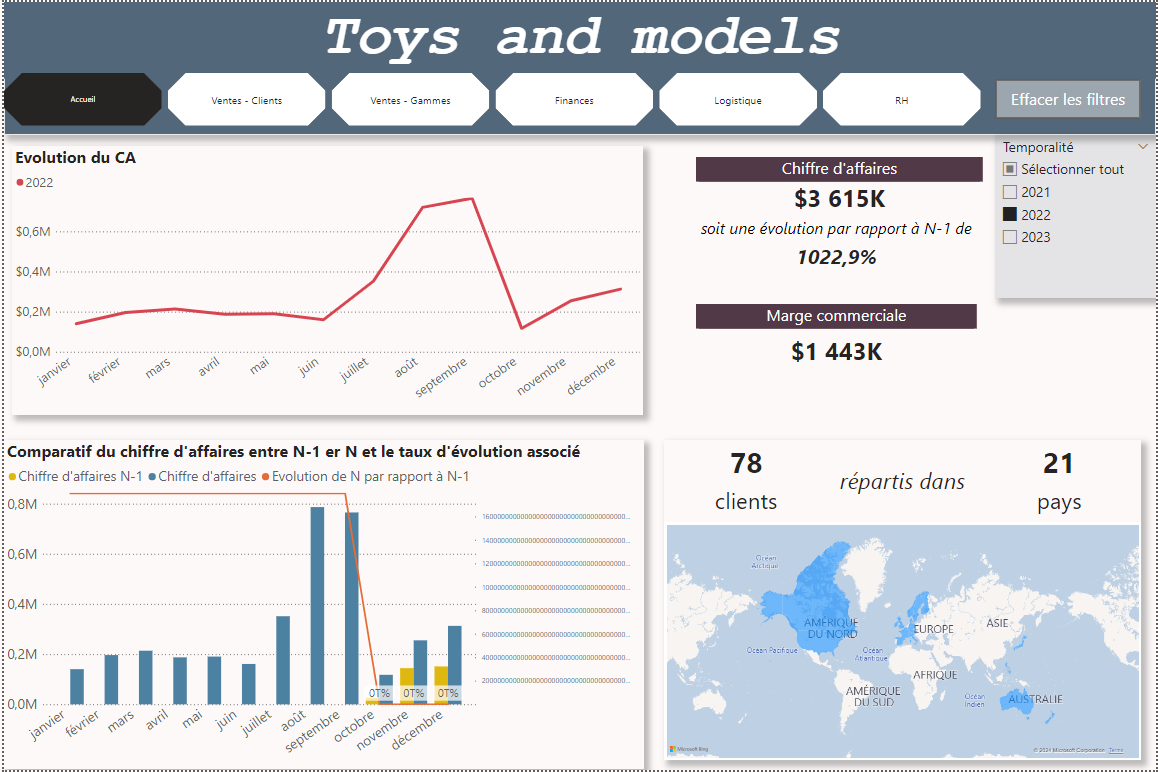

The page's visual inventory and layout, read from the dashboard file:
{"tool":"powerbi","page":{"name":"Accueil","canvas":[1920,1280],"ordinal":0},"visuals":[{"type":"textbox","box":[0,101.7,1920,120],"z":0},{"type":"filledMap","fields":{"Category":["toys_and_models ca_marge_par_pays_client.country"]},"box":[1100,866,796,398],"z":1000},{"type":"card","title":"Nombre de clients","fields":{"Values":["Count(toys_and_models orders.customerNumber)"]},"box":[1100,730,274,70],"z":2000},{"type":"card","title":"Pays","fields":{"Values":["Count(toys_and_models orders.Country)"]},"box":[1622,730,274,70],"z":3000},{"type":"textbox","box":[1384,766,228,80],"z":4000},{"type":"card","title":"Chiffre d''affaires","fields":{"Values":["Sum(toys_and_models orderdetails.CA calculé)"]},"box":[1154,258,478,100],"z":5000},{"type":"textbox","box":[1100,800,274,66],"z":6000},{"type":"textbox","box":[1622,800,274,66],"z":7000},{"type":"slicer","fields":{"Values":["Calendar.Full.Variation.Hiérarchie de dates.Année"]},"box":[1651.7,221.7,268.3,271.7],"z":8000},{"type":"textbox","title":"hhh","box":[0,0,1920,128],"z":9000},{"type":"pageNavigator","box":[0,118.3,1631.7,88.3],"z":10000},{"type":"lineChart","title":"Evolution du CA","fields":{"Category":["Calendar.Full.Variation.Hiérarchie de dates.Mois"],"Series":["Calendar.Full.Variation.Hiérarchie de dates.Année"],"Y":["Sum(toys_and_models orderdetails.CA calculé)"]},"box":[13.8,240,1052.3,447.7],"z":11000},{"type":"card","title":"Marge commerciale","fields":{"Values":["Sum(toys_and_models orderdetails.Marge brute)"]},"box":[1154,504,468,118],"z":12000},{"type":"actionButton","box":[1651.7,128.3,243.3,66.7],"z":13000},{"type":"lineClusteredColumnComboChart","title":"Comparatif du chiffre d''affaires entre N-1 er N et le taux d''évolution associé","fields":{"Category":["Calendar.Full.Variation.Hiérarchie de dates.Mois"],"Y":["toys_and_models orderdetails.CA_previous_years","Sum(toys_and_models orderdetails.CA calculé)"],"Y2":["toys_and_models orderdetails.taux evolution CA"]},"box":[0,730.8,1066.2,549.2],"z":15000},{"type":"card","title":"soit une évolution par rapport à N-1 de","fields":{"Values":["toys_and_models orderdetails.taux evolution CA"]},"box":[1154,358,468,96],"z":16000},{"type":"textbox","box":[1100,730.8,795.4,533.8],"z":17000}]}

Visuals, with their boxes in screenshot pixels (x1, y1, x2, y2), scaled from the page's 1920x1280 canvas onto the 1158x772 screenshot:
textbox: bbox=(0, 61, 1157, 134)
filledMap - toys_and_models ca_marge_par_pays_client.country: bbox=(663, 522, 1144, 762)
"Nombre de clients" card: bbox=(663, 440, 829, 482)
"Pays" card: bbox=(978, 440, 1144, 482)
textbox: bbox=(835, 462, 972, 510)
"Chiffre d''affaires" card: bbox=(696, 156, 984, 216)
textbox: bbox=(663, 482, 829, 522)
textbox: bbox=(978, 482, 1144, 522)
slicer - Calendar.Full.Variation.Hiérarchie de dates.Année: bbox=(996, 134, 1157, 298)
"hhh" textbox: bbox=(0, 0, 1157, 77)
pageNavigator: bbox=(0, 71, 984, 125)
"Evolution du CA" lineChart: bbox=(8, 145, 643, 415)
"Marge commerciale" card: bbox=(696, 304, 978, 375)
actionButton: bbox=(996, 77, 1143, 118)
"Comparatif du chiffre d''affaires entre N-1 er N et le taux d''évolution associé" lineClusteredColumnComboChart: bbox=(0, 441, 643, 771)
"soit une évolution par rapport à N-1 de" card: bbox=(696, 216, 978, 274)
textbox: bbox=(663, 441, 1143, 763)
